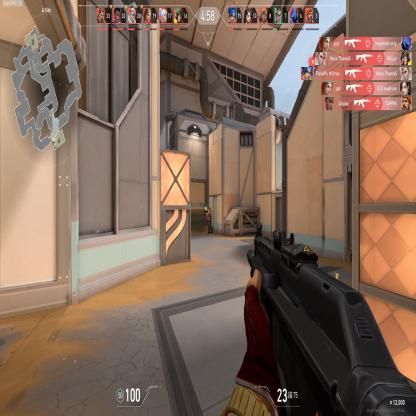enemy: (205, 206, 213, 234)
